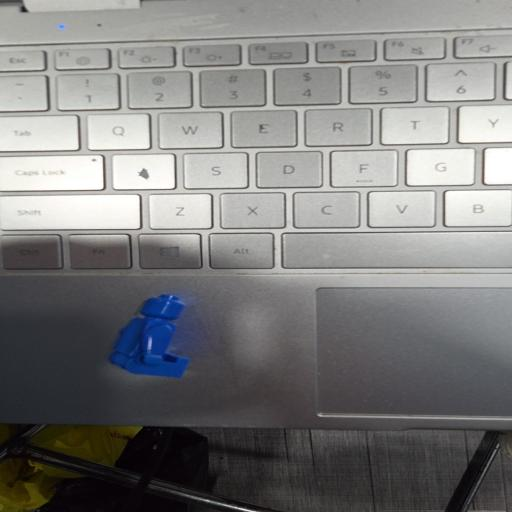Blue: (110, 295, 189, 378)
